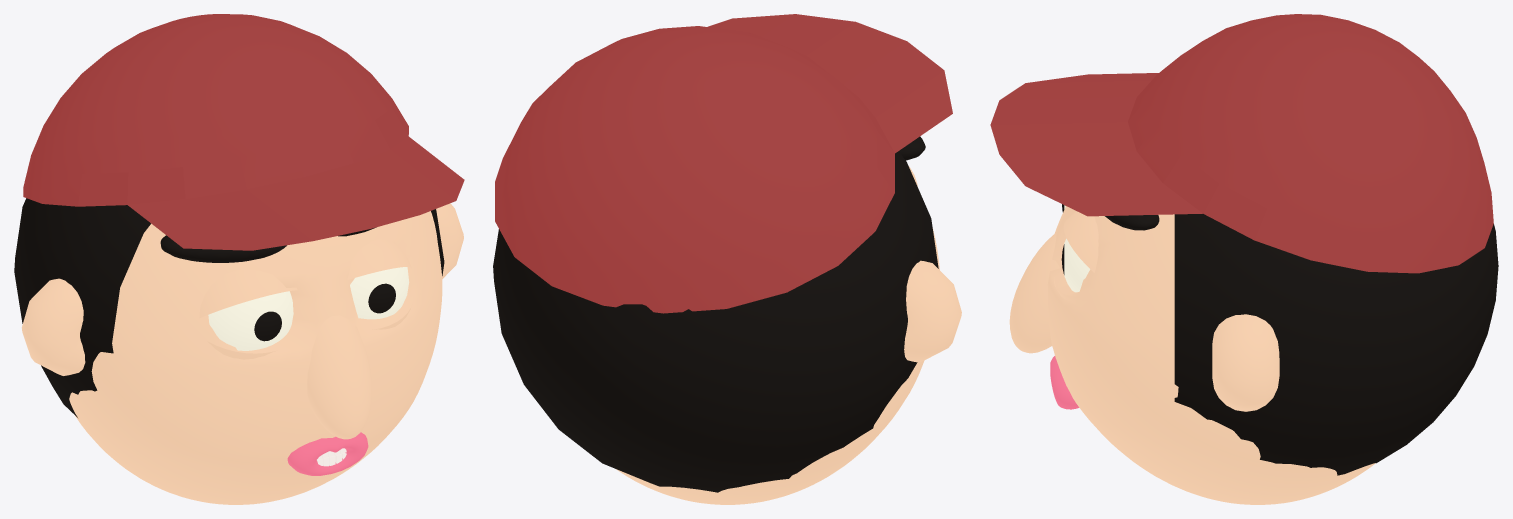
The model's file is cha_21.glb.
3 renders of one model, left to right at view 1: azimuth 30°, elevation 25°; view 2: azimuth 150°, elevation 25°; view 3: azimuth 270°, elevation 25°, orthographic. The views are drawn at different scales.
Visible parts, largest first — view 1: hat, head, pSphere1, nose, ear, eyeball2, eyelid1, eyeball1, mouth, eyelid2, eyebrow1, ear1; view 2: hat, pSphere1, head, ear; view 3: hat, pSphere1, head, ear1, nose, eyelid2, eyeball1, mouth, eyebow2.
Boxes of the visible parts, x1=… form: hat: x1=23, y1=14, x2=464, y2=250; head: x1=69, y1=211, x2=442, y2=504; pSphere1: x1=14, y1=198, x2=444, y2=417; nose: x1=307, y1=315, x2=371, y2=439; ear: x1=21, y1=278, x2=85, y2=375; eyeball2: x1=208, y1=291, x2=293, y2=350; eyelid1: x1=199, y1=269, x2=297, y2=359; eyeball1: x1=350, y1=267, x2=409, y2=319; mouth: x1=287, y1=432, x2=368, y2=475; eyelid2: x1=347, y1=239, x2=411, y2=329; eyebrow1: x1=160, y1=235, x2=286, y2=262; ear1: x1=429, y1=203, x2=463, y2=278; hat: x1=495, y1=14, x2=952, y2=313; pSphere1: x1=493, y1=151, x2=938, y2=492; head: x1=616, y1=228, x2=939, y2=504; ear: x1=904, y1=260, x2=961, y2=362; hat: x1=990, y1=14, x2=1493, y2=273; pSphere1: x1=1174, y1=214, x2=1498, y2=475; head: x1=1047, y1=206, x2=1375, y2=504; ear1: x1=1212, y1=314, x2=1279, y2=411; nose: x1=1009, y1=233, x2=1059, y2=353; eyelid2: x1=1054, y1=211, x2=1098, y2=300; eyeball1: x1=1061, y1=238, x2=1090, y2=292; mouth: x1=1050, y1=356, x2=1079, y2=409; eyebow2: x1=1105, y1=215, x2=1159, y2=230.
Size of the model in its own units: 3.86 by 3.75 by 3.79.
